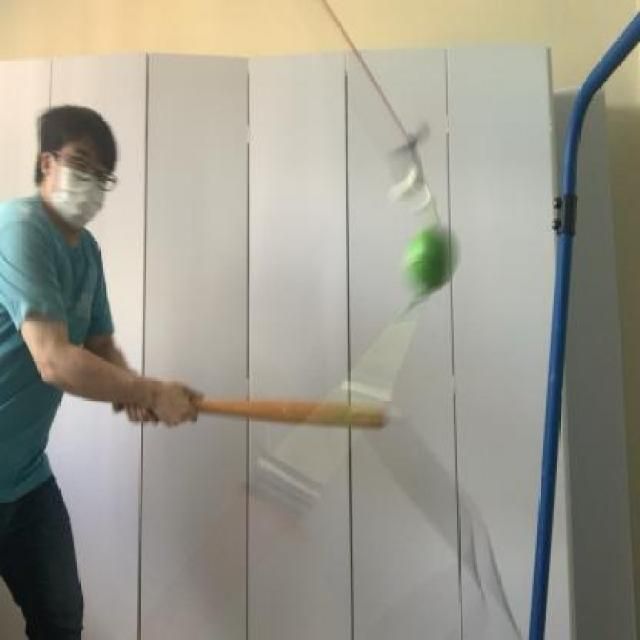baseball: (395, 217, 460, 301)
